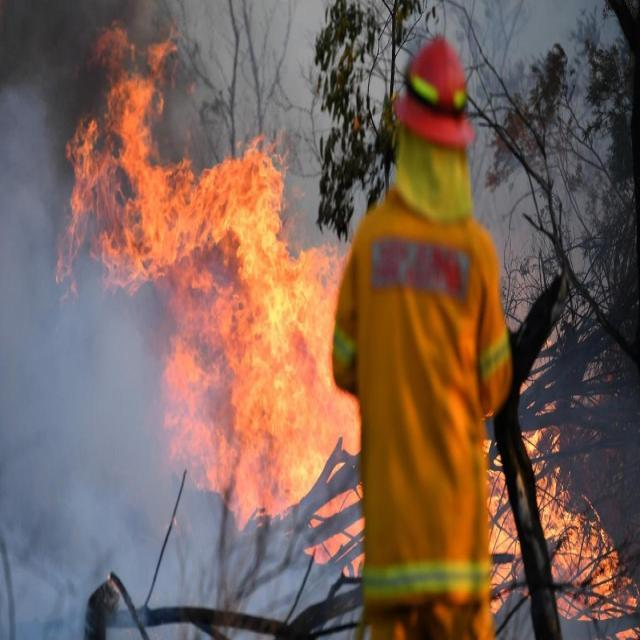Fire: (177, 147, 333, 507), (62, 27, 184, 282), (498, 428, 640, 636)
Smoke: (0, 284, 178, 628)
